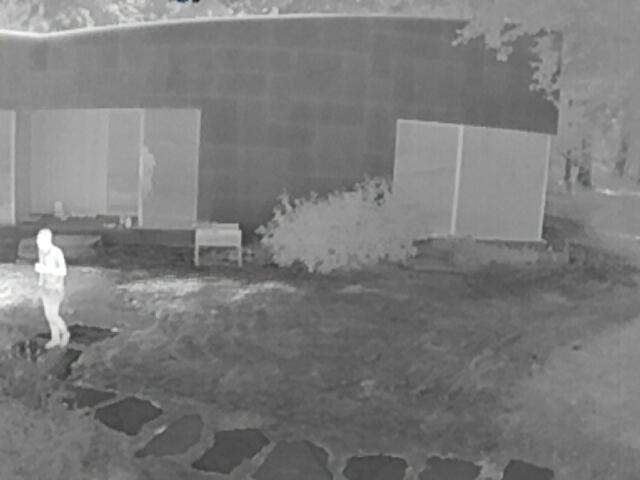person: (34, 227, 69, 348)
